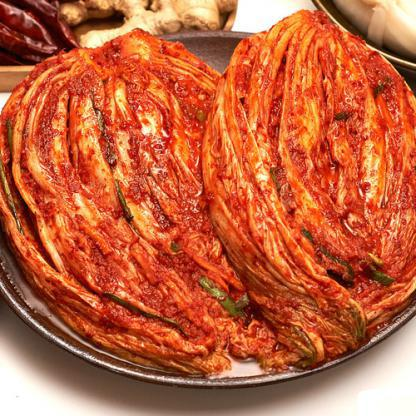kimchi: (4, 37, 272, 378), (203, 0, 415, 367)
